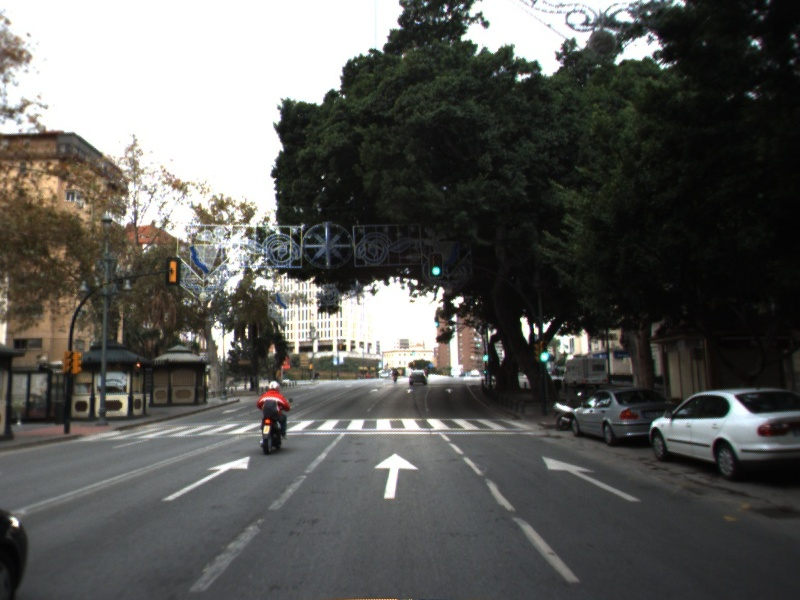STRAIGHT: (540, 454, 645, 504), (159, 454, 252, 503), (372, 451, 421, 501)
